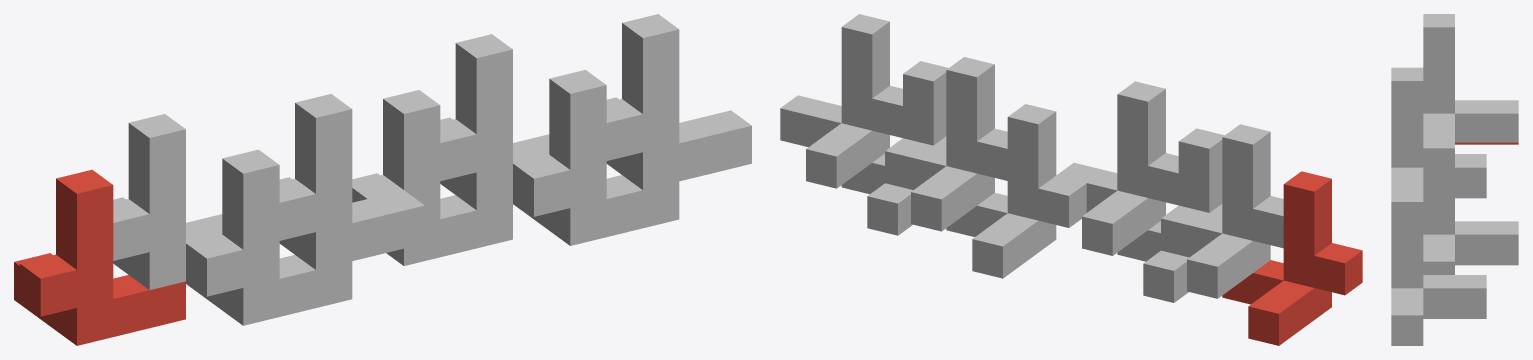
File: tiling.obj
3 renders of one model, left to right at view 1: azimuth 30°, elevation 25°; view 2: azimuth 150°, elevation 25°; view 3: azimuth 270°, elevation 25°, orthographic. The views are drawn at different scales.
Visible parts, largest first — view 1: copy_1_domain_1, copy_1_domain_2, copy_1_domain_6, copy_1_domain_8, copy_1_domain_4, copy_1_domain_7, copy_1_domain_3, copy_1_domain_5; view 2: copy_1_domain_3, copy_1_domain_7, copy_1_domain_8, copy_1_domain_5, copy_1_domain_1, copy_1_domain_4, copy_1_domain_2, copy_1_domain_6; view 3: copy_1_domain_8, copy_1_domain_7, copy_1_domain_3, copy_1_domain_4, copy_1_domain_6, copy_1_domain_1, copy_1_domain_5.
Part boxes in pixels (x1,y1,x2,y2): copy_1_domain_1: (14,169,185,345); copy_1_domain_2: (186,149,352,325); copy_1_domain_6: (513,70,679,245); copy_1_domain_8: (606,14,751,190); copy_1_domain_4: (279,94,424,269); copy_1_domain_7: (440,34,549,210); copy_1_domain_3: (113,114,222,289); copy_1_domain_5: (352,90,512,265); copy_1_domain_3: (1161,124,1283,298); copy_1_domain_7: (885,57,1007,231); copy_1_domain_8: (780,14,902,188); copy_1_domain_5: (946,104,1086,278); copy_1_domain_1: (1222,171,1362,345); copy_1_domain_4: (1056,81,1178,255); copy_1_domain_2: (1117,128,1224,302); copy_1_domain_6: (841,61,948,235); copy_1_domain_8: (1391,188,1486,343); copy_1_domain_7: (1423,135,1518,274); copy_1_domain_3: (1423,14,1518,142); copy_1_domain_4: (1391,67,1486,196); copy_1_domain_6: (1391,317,1486,345); copy_1_domain_1: (1455,142,1518,144); copy_1_domain_5: (1455,263,1518,265).
Size of the model in its own units: 19 by 5 by 4.
